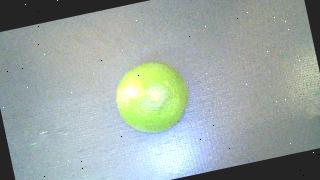EXPORTACION: (110, 56, 195, 139)
